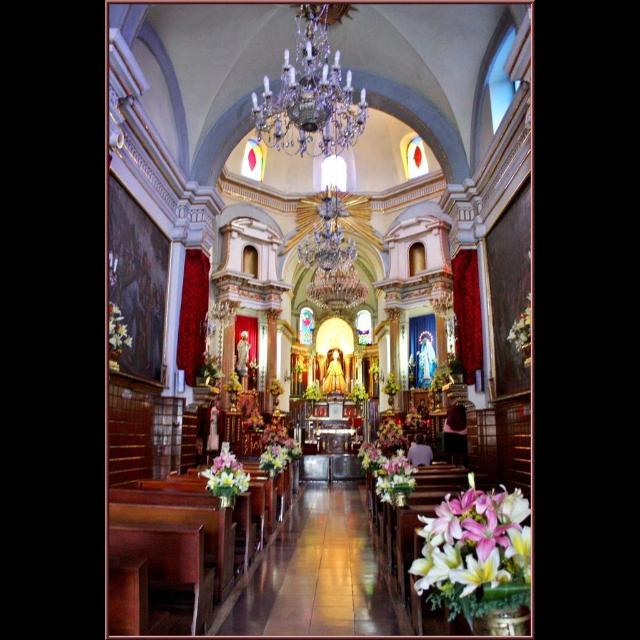Flower: (408, 472, 530, 596), (358, 442, 418, 501), (449, 546, 511, 598), (198, 449, 252, 488), (260, 434, 298, 468), (506, 304, 532, 352), (108, 302, 132, 350), (378, 416, 406, 449), (429, 361, 451, 394), (349, 380, 369, 400), (402, 408, 421, 428), (268, 419, 286, 439), (207, 358, 223, 378), (381, 375, 397, 395), (225, 372, 242, 390), (244, 408, 262, 424), (303, 384, 319, 401), (269, 378, 283, 396), (295, 361, 307, 374), (370, 360, 380, 374)
